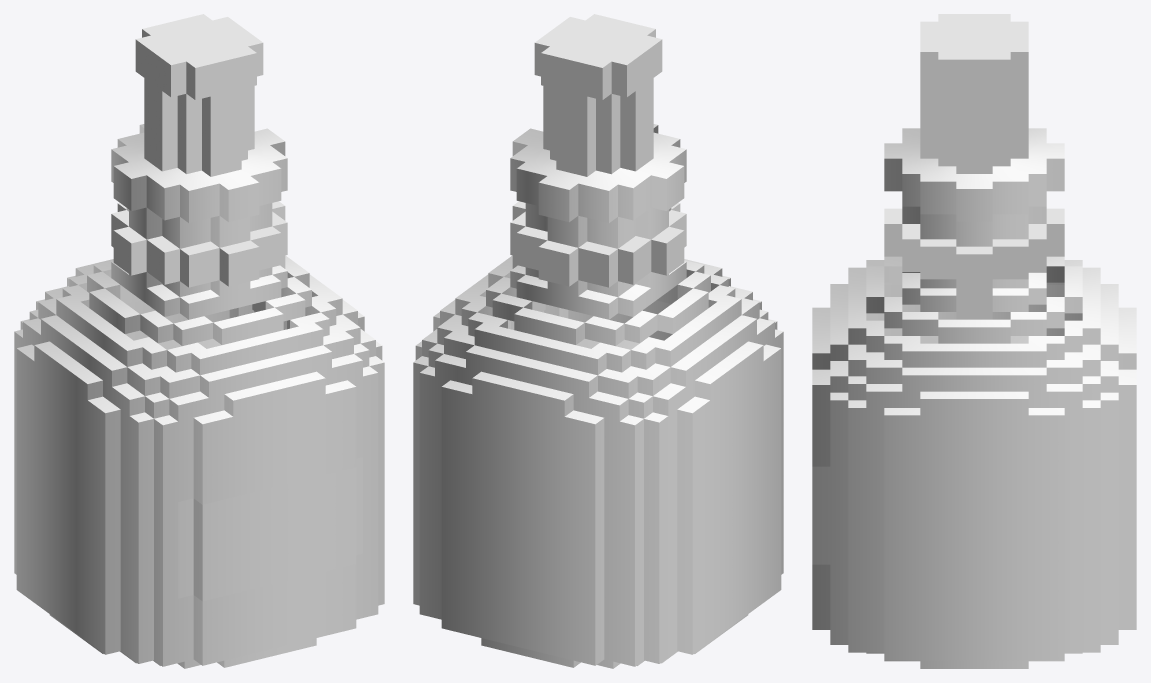
The model's file is potion.obj.
3 renders of one model, left to right at view 1: azimuth 30°, elevation 25°; view 2: azimuth 150°, elevation 25°; view 3: azimuth 270°, elevation 25°, orthographic.
Parts seen in each view (by area): view 1: potion; view 2: potion; view 3: potion.
Part boxes in pixels (x1=…): potion: x1=14, y1=14, x2=384, y2=668; potion: x1=413, y1=14, x2=783, y2=668; potion: x1=812, y1=14, x2=1136, y2=668.
Size of the model in its own units: 0.5625 by 1.09 by 0.5625.
